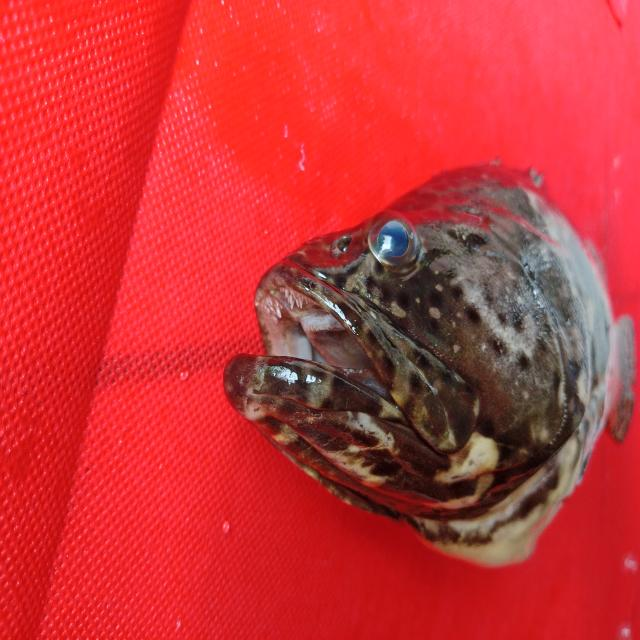ikan: (212, 150, 614, 586)
